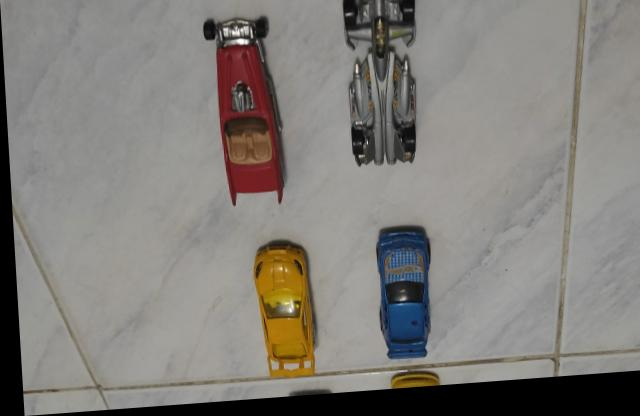02_OZSOME: (384, 376, 436, 395)
03_V8: (202, 18, 285, 209)
04_MERZEDES: (372, 229, 427, 366)
05_DC121: (340, 0, 417, 170)
07_RHLTURBO: (248, 241, 313, 382)
